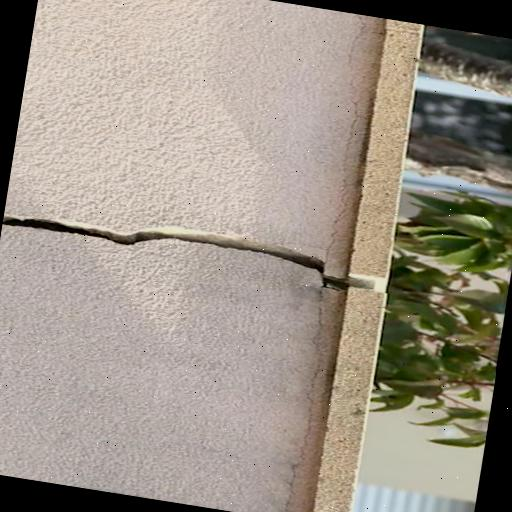spalling: (6, 210, 324, 276)
